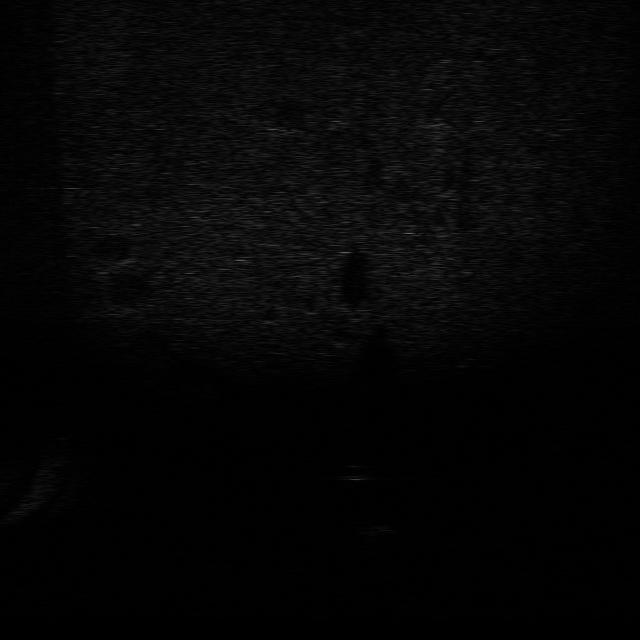ball: (330, 456, 379, 487)
square cage: (345, 521, 405, 544)
